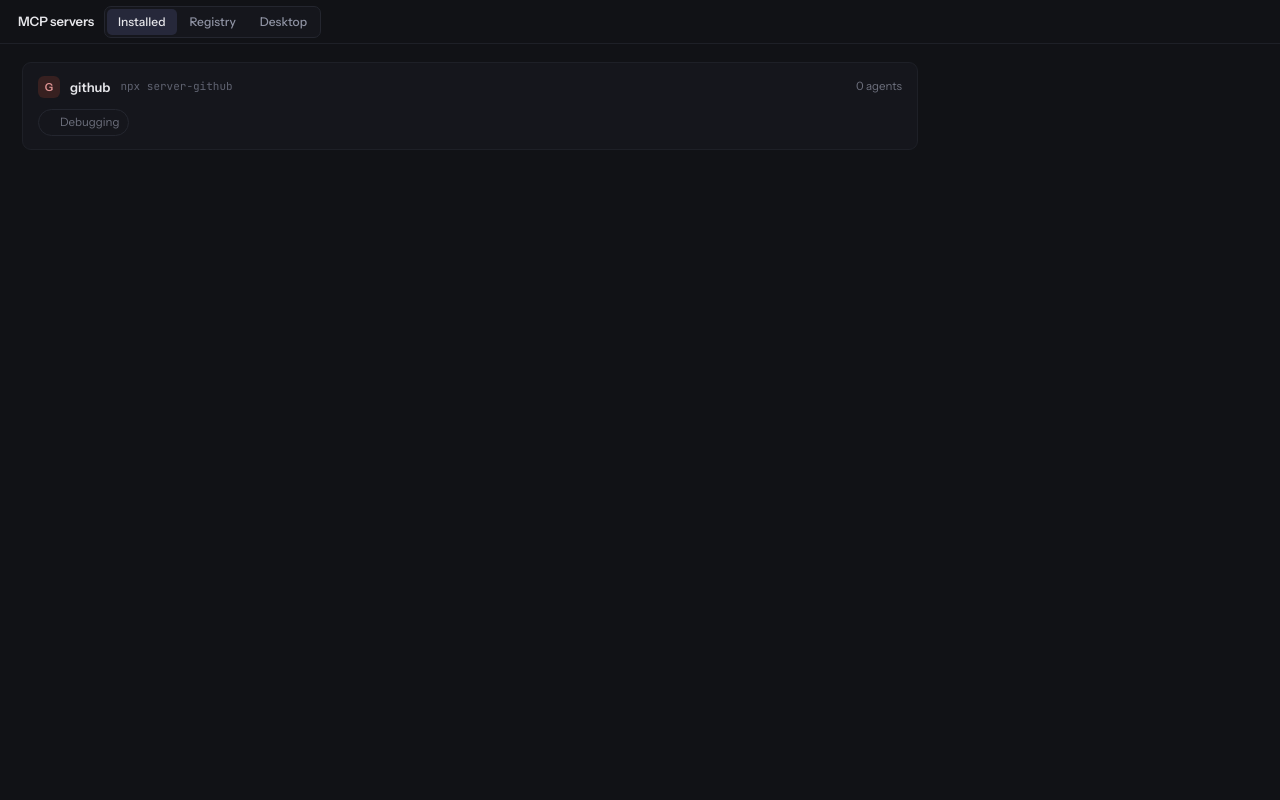
Scenario: McpServerModal — opening › closes without saving on Cancel
Click the button with aria-label "Configure github".
click(90, 87)  # box [38,76,902,98]
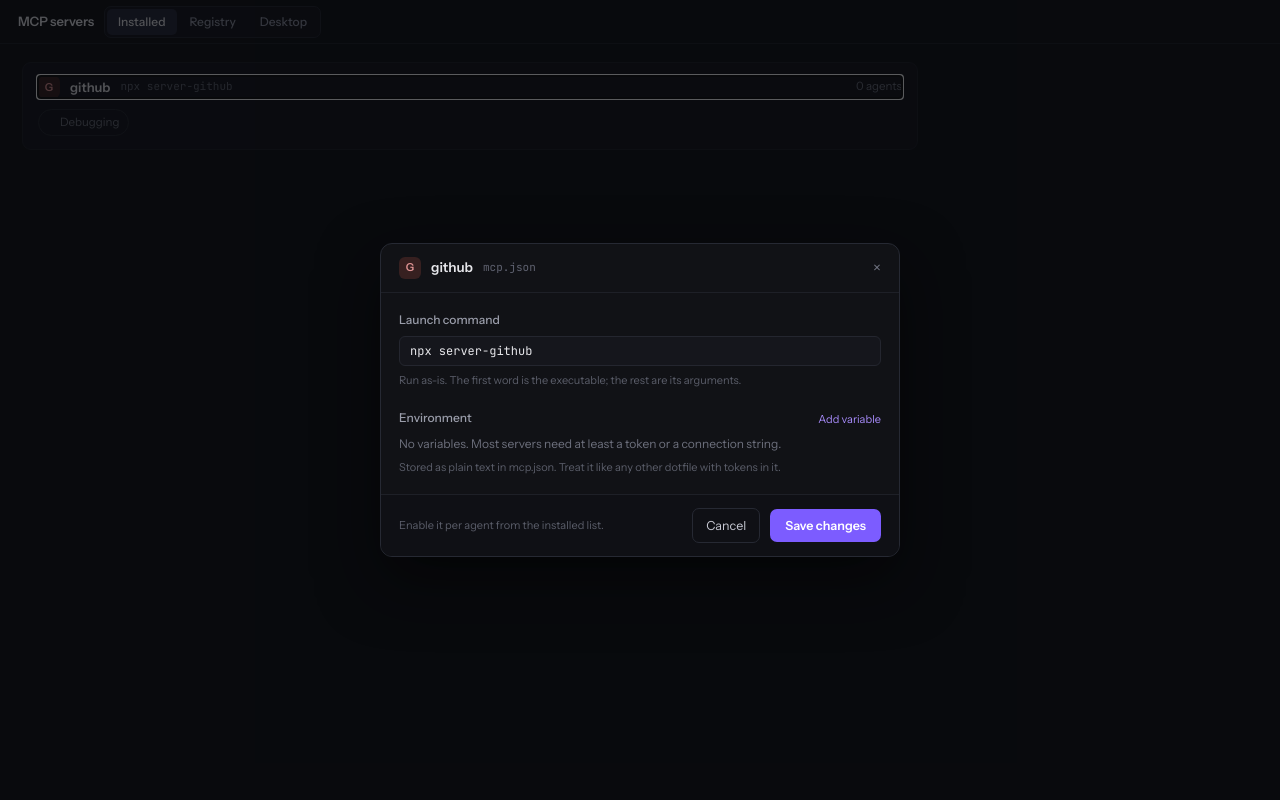
Click the button "Cancel".
click(726, 525)  # box [692,508,760,543]
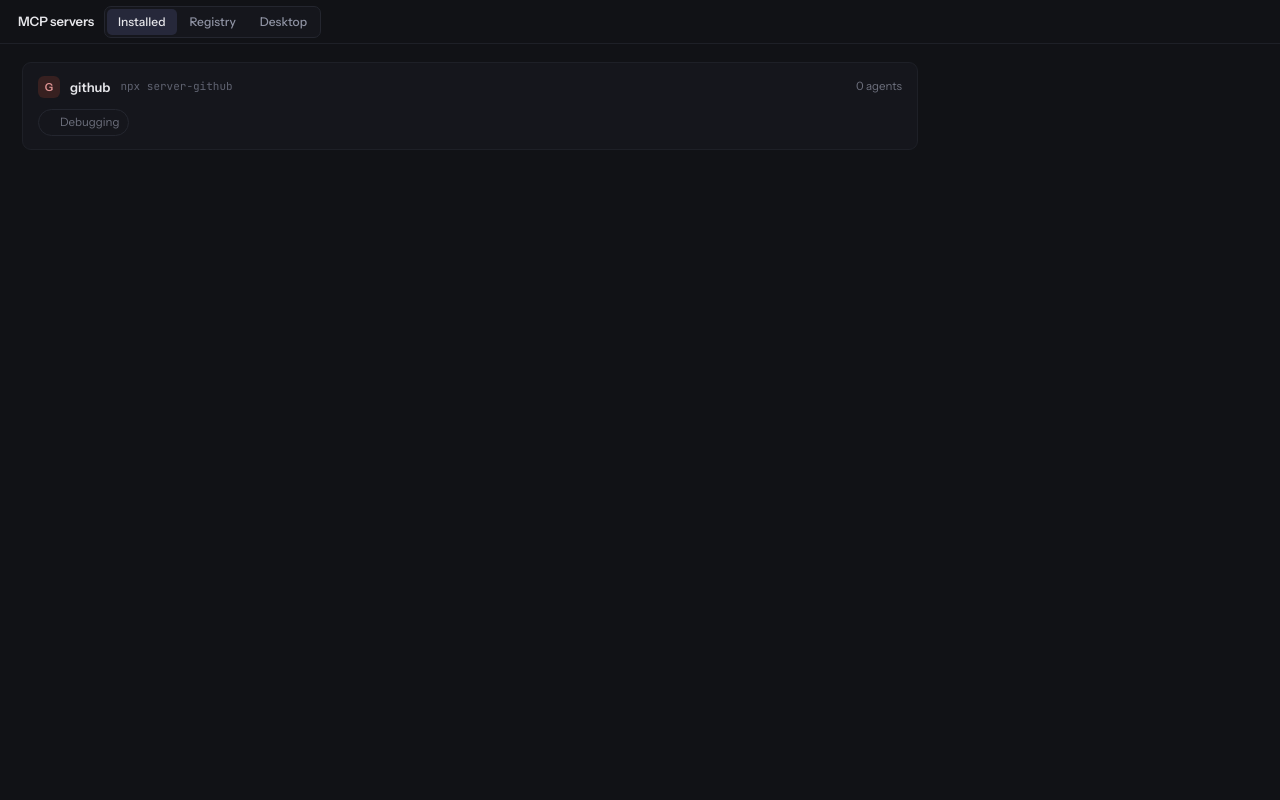
Now the dialog is gone
